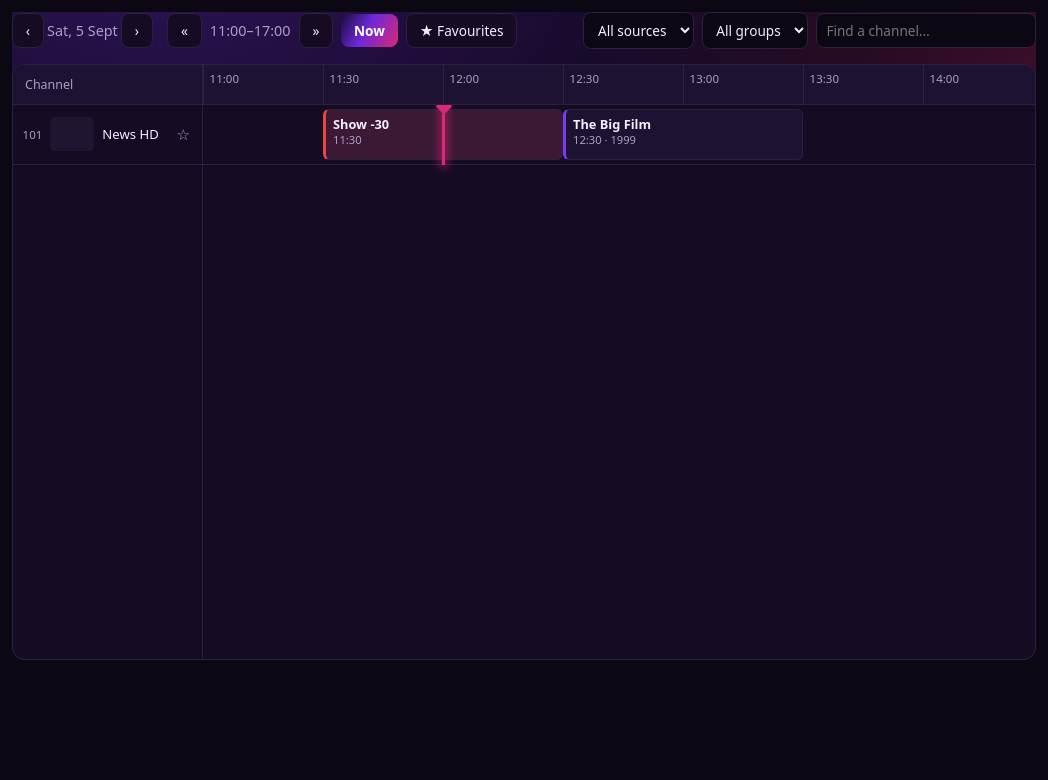
Test case: desktop: searching for a missing channel shows the empty message
This screenshot has width=1048, height=780.
Expected: the button "Now" is shown, [341,14,398,47]
In the field with placeholder "Find a channel…": (926, 31) [816,13,1036,48], type "sport"
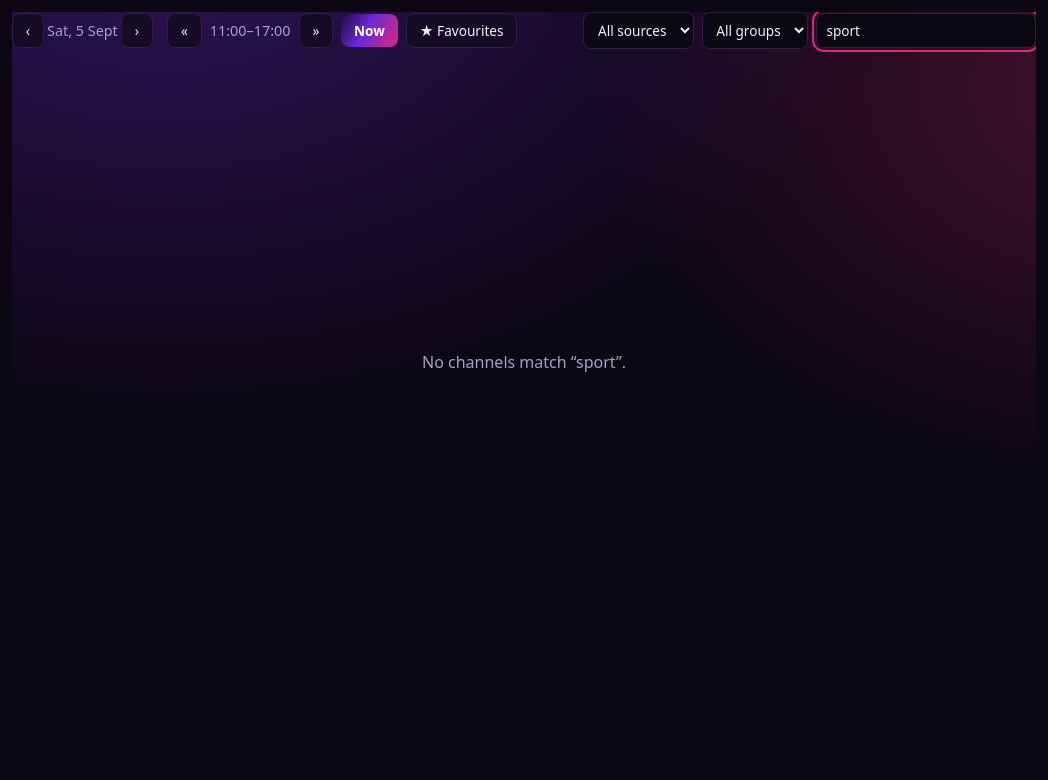
Expected: the text "No channels match “sport”." is shown, [422,351,626,373]
